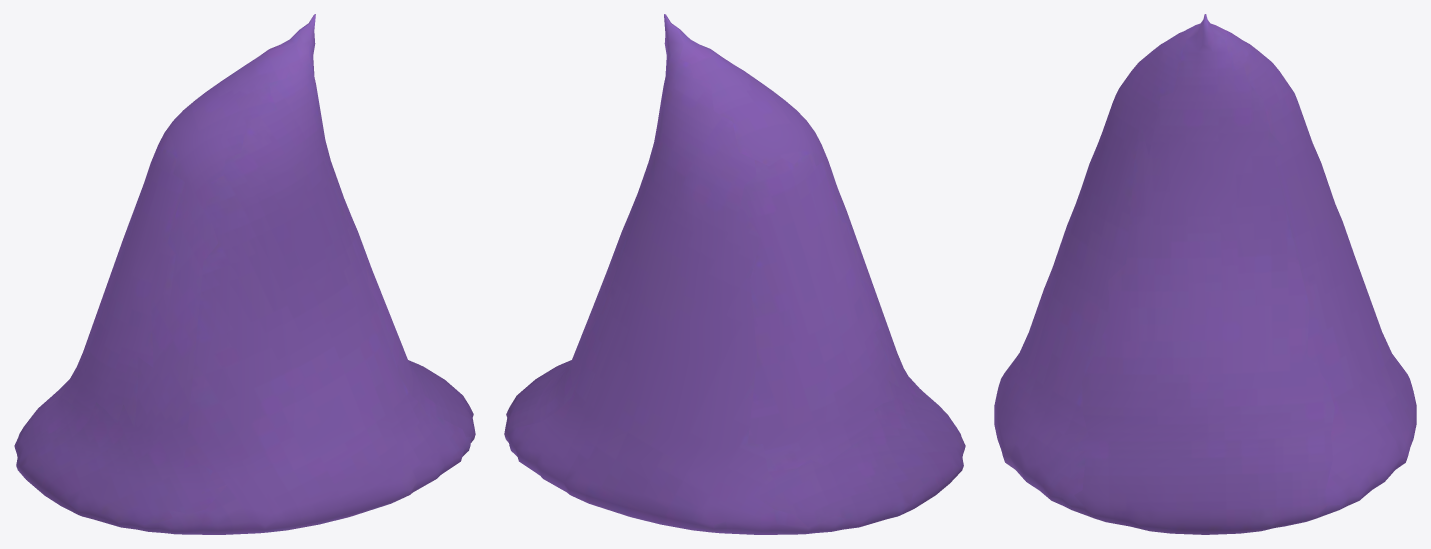
The model's file is item_hat.glb.
3 views of the same model, side by side, from view 1: azimuth 30°, elevation 25°; view 2: azimuth 150°, elevation 25°; view 3: azimuth 270°, elevation 25° (orthographic). The views are drawn at different scales.
Visible parts, largest first — view 1: hat; view 2: hat; view 3: hat.
Boxes of the visible parts, left/top/right/bottom form: hat: left=14, top=14, right=475, bottom=534; hat: left=504, top=14, right=965, bottom=534; hat: left=994, top=14, right=1416, bottom=534.
Bounding box in the file's own units: 0.5545 × 0.5783 × 0.46.
Materials: 1 (1 with a texture image).
